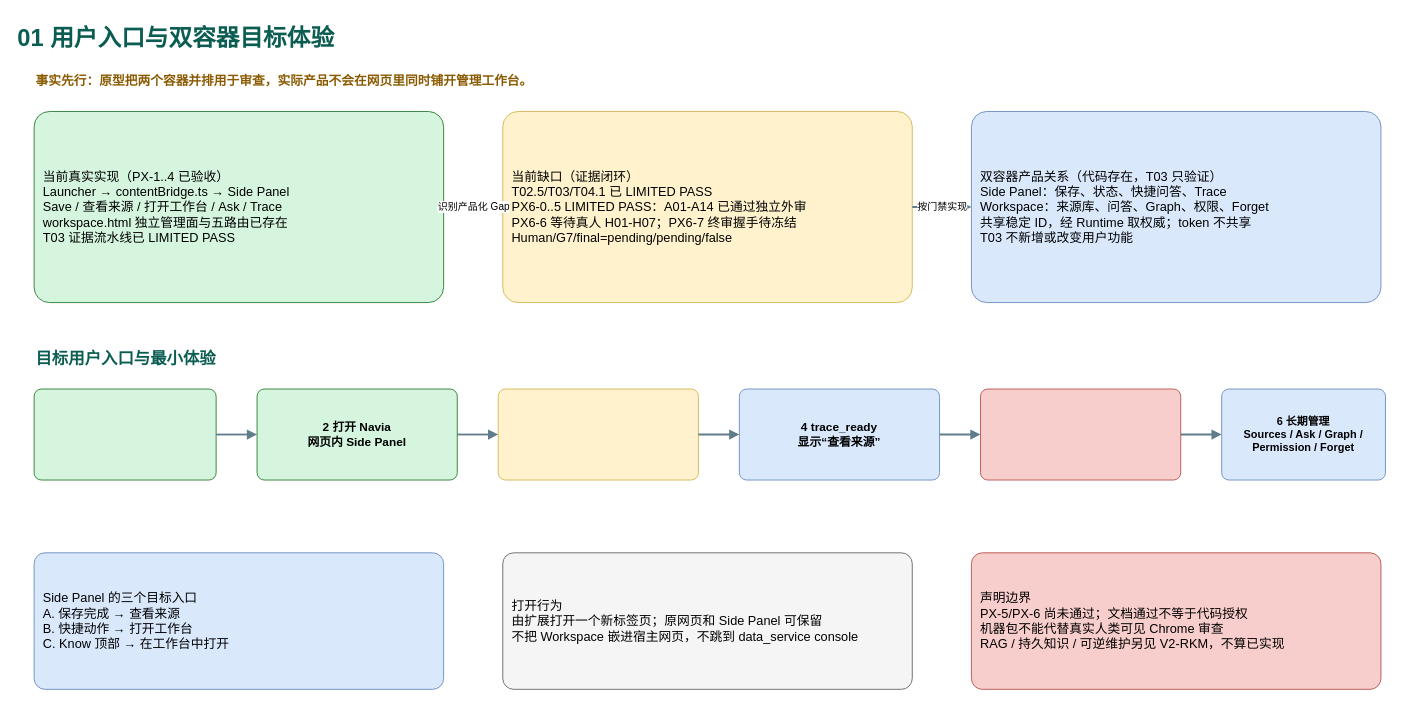
Image size: 1401x705. Some labels were removed from this diagram. Here are the shapes that lost their labels. From the top down, the centre of each, then its label:
At point (124, 434): "1 普通网页 Launcher 贴边".
At point (597, 434): "3 保存当前页 单次主动点击".
At point (1080, 434): "5 新标签页 Extension Workspace".
